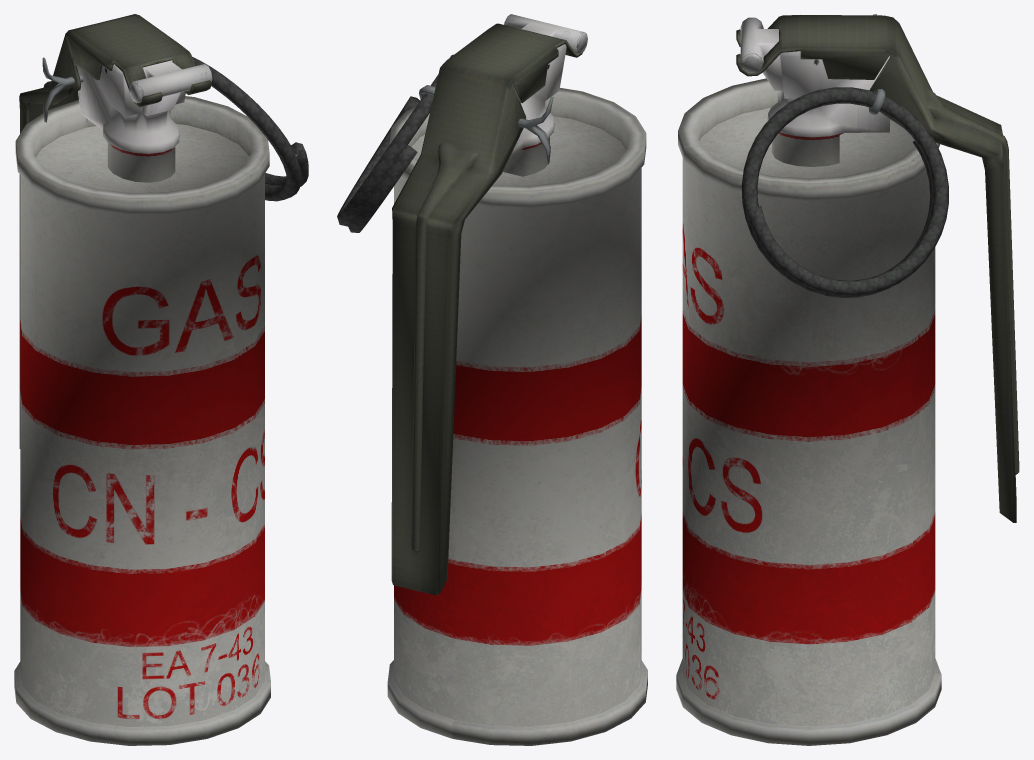
File: Weapons_Grenades_GasGrenade_LOD0.glb
3 views of the same model, side by side, from view 1: azimuth 30°, elevation 25°; view 2: azimuth 150°, elevation 25°; view 3: azimuth 270°, elevation 25° (orthographic). The views are drawn at different scales.
Parts seen in each view (by area): view 1: Hoodie; view 2: Hoodie; view 3: Hoodie.
Boxes of the visible parts, bbox=[...] form: Hoodie: bbox=[14, 14, 308, 745]; Hoodie: bbox=[337, 14, 647, 745]; Hoodie: bbox=[676, 14, 1019, 745].
Size of the model in its own units: 0.0627 by 0.1447 by 0.0683.
Materials: 1 (1 with a texture image).
